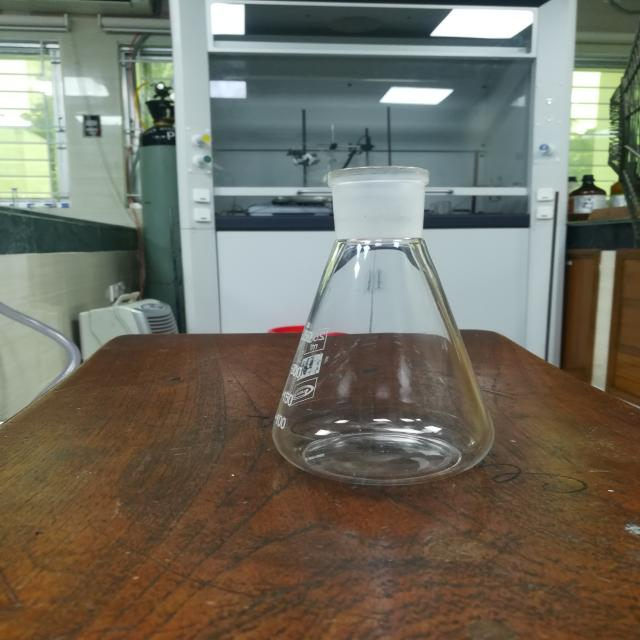Conical_Flask: (222, 118, 545, 529)
